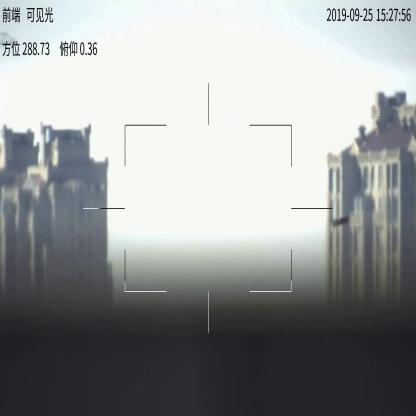uav: (332, 215, 350, 228)
